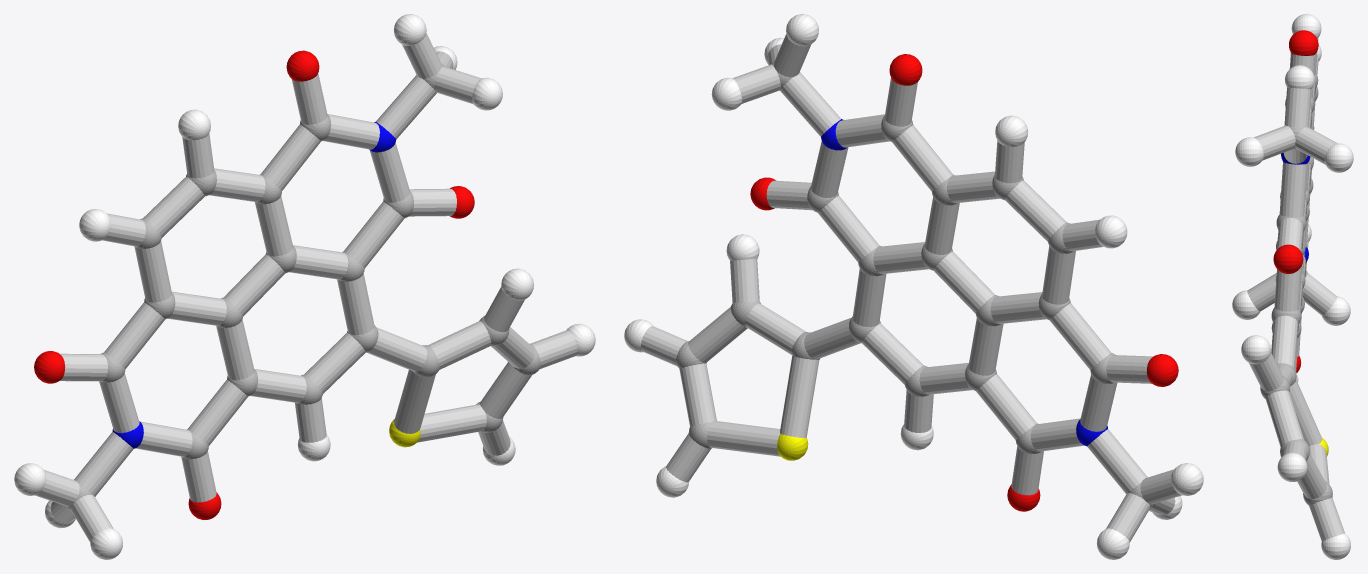
The model's file is Dimethyl_Naphthalene_Dicarboximide_Phi_15_Theta_20_Thiophene.glb.
The picture shows the model from 3 angles, left to right: view 1: azimuth 30°, elevation 25°; view 2: azimuth 150°, elevation 25°; view 3: azimuth 270°, elevation 25°; orthographic projection. The views are drawn at different scales.
Visible parts, largest first — view 1: grp14119, grp7241, grp1, grp12309, grp11585; view 2: grp14119, grp7241, grp1, grp12309, grp11585; view 3: grp14119, grp7241, grp1, grp12309, grp11585.
Part boxes in pixels (bbox=[...]): grp14119: bbox=[35, 33, 577, 542]; grp7241: bbox=[14, 14, 595, 559]; grp1: bbox=[65, 63, 540, 510]; grp12309: bbox=[34, 50, 474, 519]; grp11585: bbox=[112, 121, 396, 448]; grp14119: bbox=[640, 34, 1181, 542]; grp7241: bbox=[624, 14, 1203, 559]; grp1: bbox=[676, 61, 1155, 507]; grp12309: bbox=[750, 54, 1178, 511]; grp11585: bbox=[821, 119, 1107, 446]; grp14119: bbox=[1247, 38, 1344, 541]; grp7241: bbox=[1232, 14, 1353, 559]; grp1: bbox=[1260, 73, 1332, 505]; grp12309: bbox=[1273, 30, 1318, 372]; grp11585: bbox=[1281, 153, 1310, 262].
Bounding box in the file's own units: 12.1 × 9.86 × 2.44.
